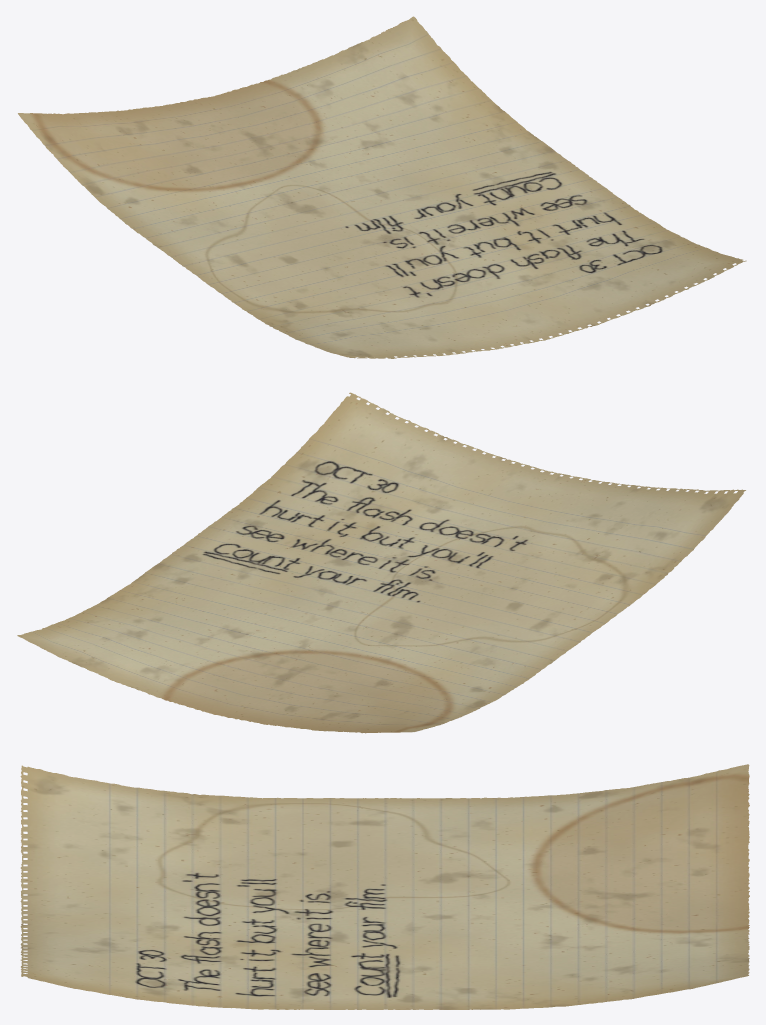
The model's file is note_flash.glb.
3 renders of one model, top to bottom at view 1: azimuth 30°, elevation 25°; view 2: azimuth 150°, elevation 25°; view 3: azimuth 270°, elevation 25°, orthographic. The views are drawn at different scales.
Visible parts, largest first — view 1: note_flash; view 2: note_flash; view 3: note_flash.
Boxes of the visible parts, bbox=[...] form: note_flash: bbox=[18, 16, 746, 358]; note_flash: bbox=[17, 392, 745, 733]; note_flash: bbox=[20, 764, 749, 1009].
Bounding box in the file's own units: 0.13 × 0.01 × 0.19.
1 material, 1 textured.
